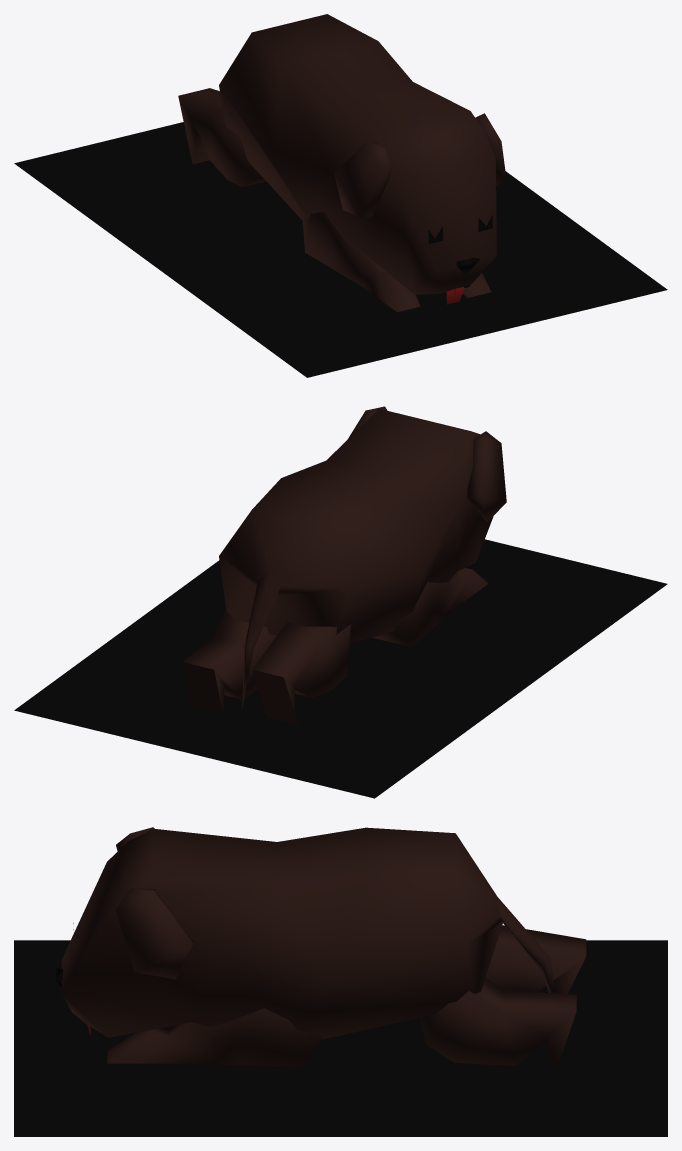
The model's file is boney.obj.
3 renders of one model, top to bottom at view 1: azimuth 30°, elevation 25°; view 2: azimuth 150°, elevation 25°; view 3: azimuth 270°, elevation 25°, orthographic. The views are drawn at different scales.
Visible parts, largest first — view 1: generic_shadow, boney; view 2: generic_shadow, boney; view 3: boney, generic_shadow.
Part boxes in pixels (bbox=[...]): generic_shadow: bbox=[14, 122, 667, 377]; boney: bbox=[178, 14, 506, 312]; generic_shadow: bbox=[14, 539, 667, 798]; boney: bbox=[182, 406, 506, 724]; boney: bbox=[56, 827, 586, 1067]; generic_shadow: bbox=[14, 940, 667, 1136].
Size of what is drawn, in the model's own units: 5.57 by 2.61 by 7.84.
